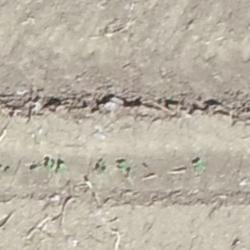cotton: (194, 160, 203, 170), (56, 165, 67, 172), (119, 162, 126, 168), (47, 160, 53, 167)
